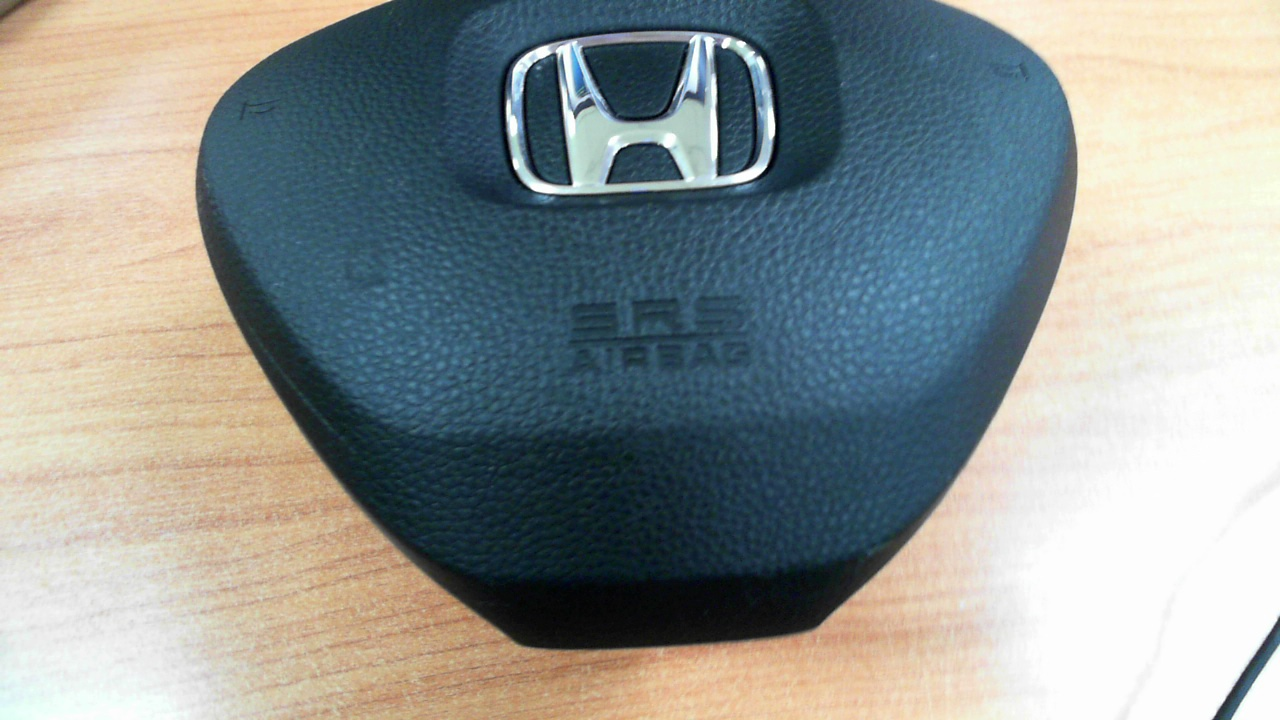Airbag: (194, 0, 1081, 651)
Honda: (505, 31, 776, 195)
